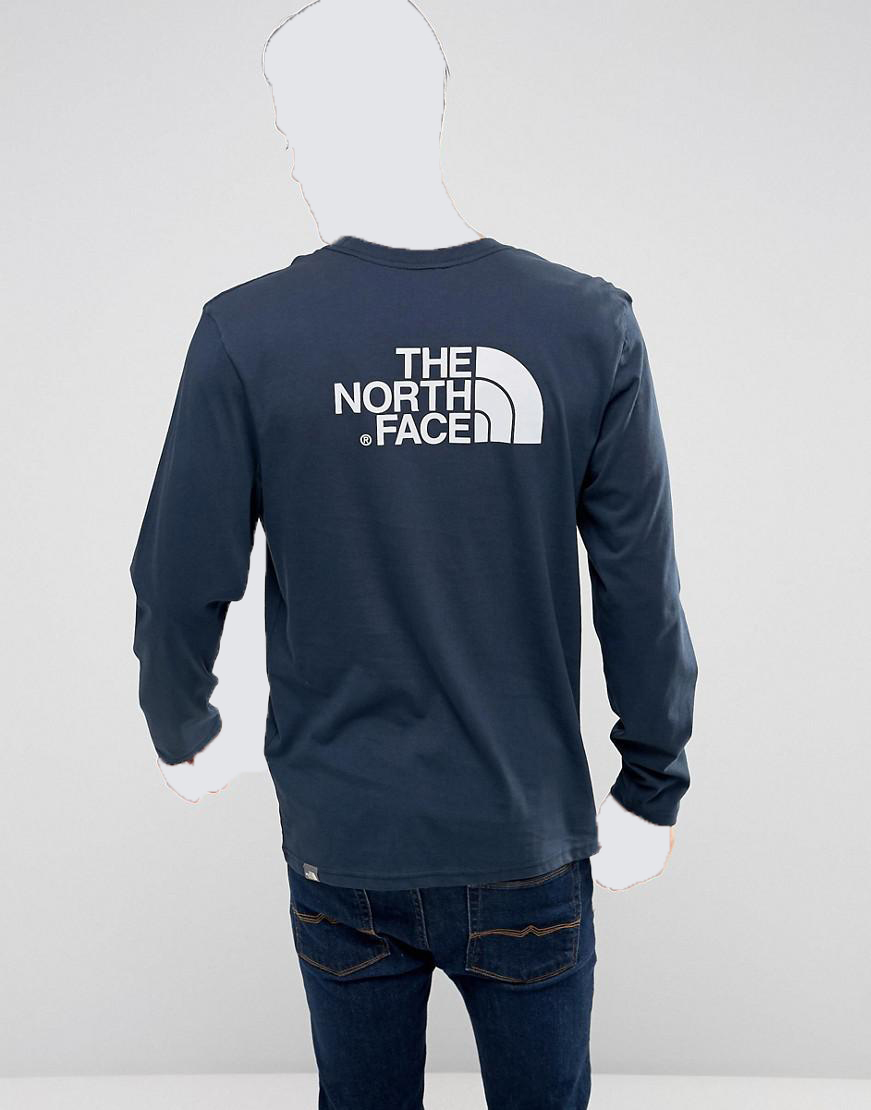teeshirt: (107, 229, 710, 837)
